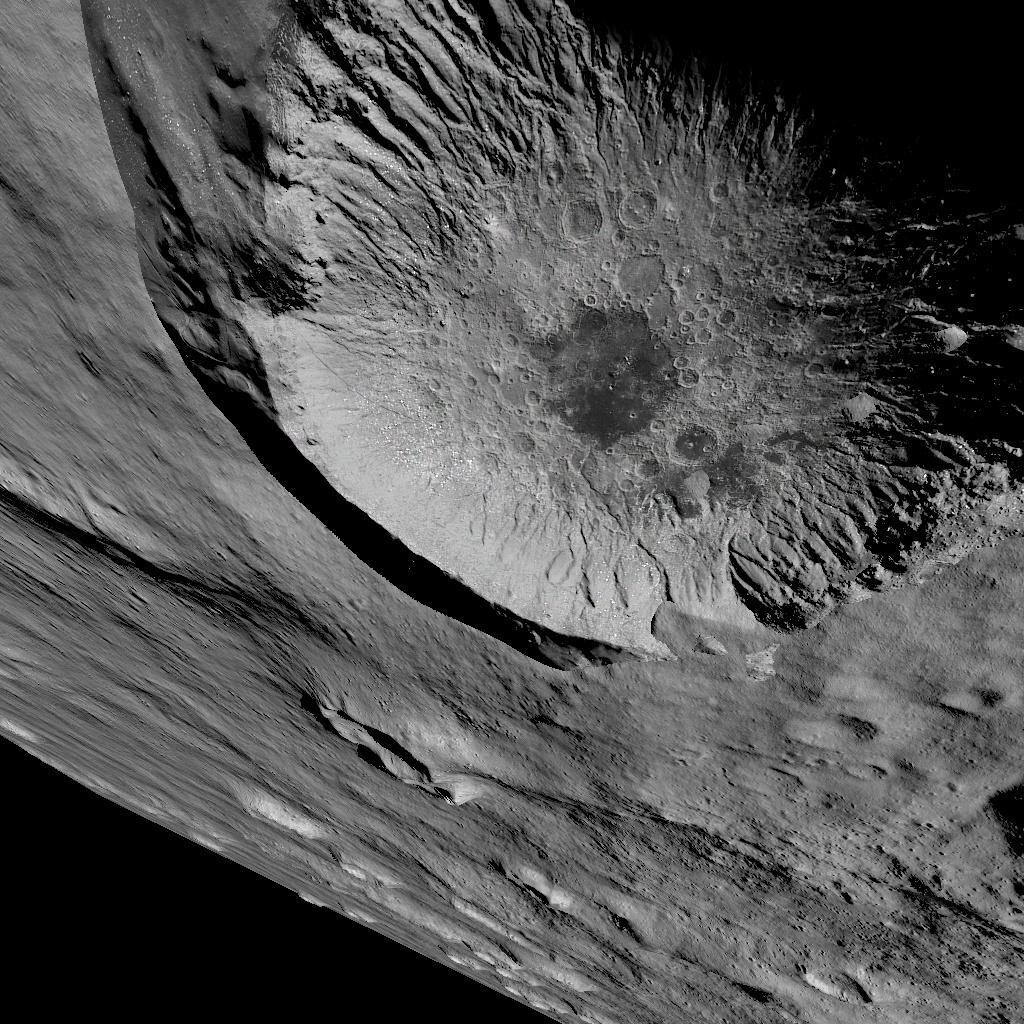Crater: (57, 0, 1024, 669), (285, 684, 443, 818)
Plan surface: (482, 692, 954, 978)
